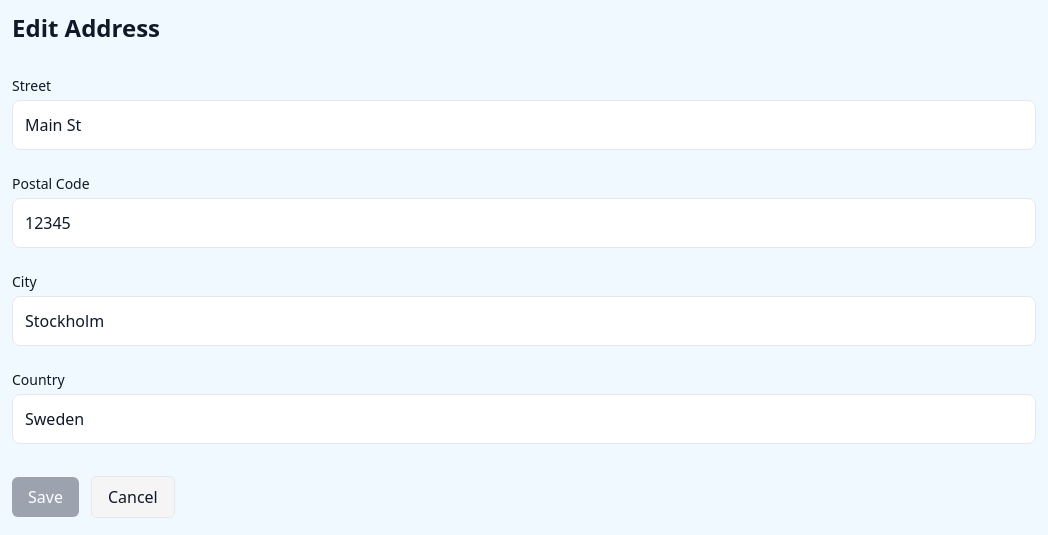
Test case: EditAddressForm › enables Save when a field changes
Replace the text in the field labelled "City" with "Uppsala" at (524, 321), box [12,296,1036,346]
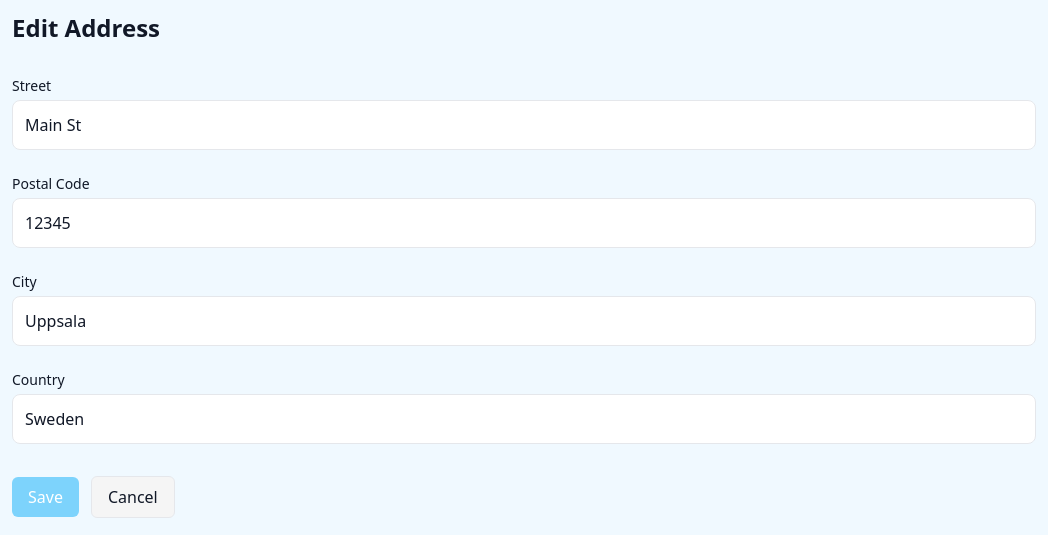
Result: the button "Save" is enabled at [12,477,79,517]
